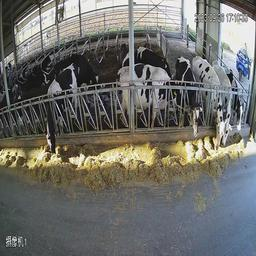cow: (119, 61, 181, 132), (38, 61, 77, 164), (214, 57, 250, 156), (193, 53, 224, 148), (174, 47, 204, 137), (62, 43, 104, 98), (10, 72, 28, 134)
